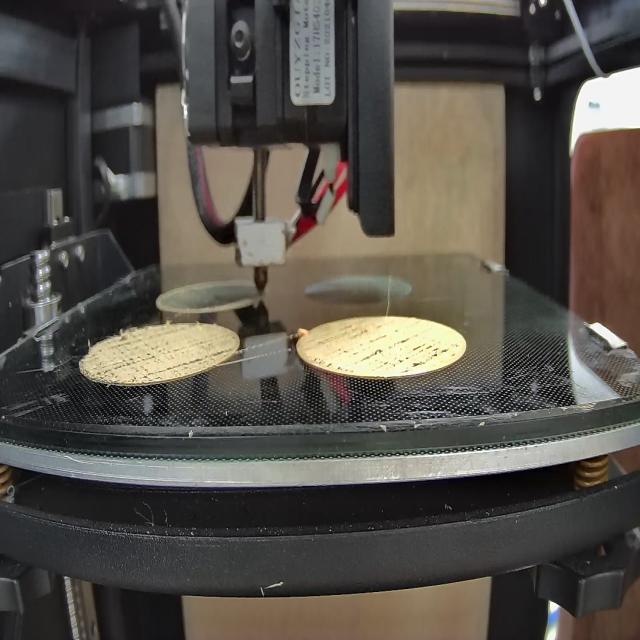under_extrusion: (309, 328, 459, 368), (95, 332, 233, 373)
